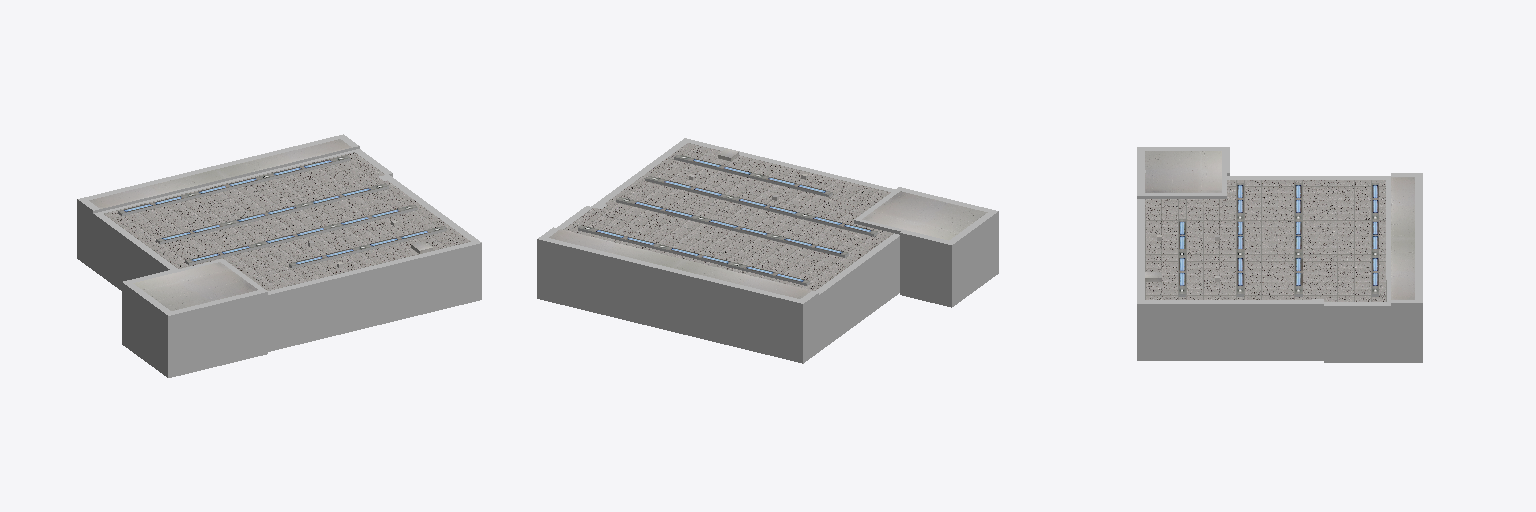
The picture shows the model from 3 angles: view 1: azimuth 30°, elevation 25°; view 2: azimuth 150°, elevation 25°; view 3: azimuth 270°, elevation 25°; orthographic projection.
Visible parts, largest first — view 1: extrior_walls, ceiling, wall9, wall3, lamps; view 2: extrior_walls, ceiling, wall9, lamps, wall3; view 3: ceiling, extrior_walls, wall9, lamps, wall3.
Boxes of the visible parts, <box> form: extrior_walls: <box>77,134,481,377</box>; ceiling: <box>104,152,470,290</box>; wall9: <box>89,139,432,310</box>; wall3: <box>101,148,446,268</box>; lamps: <box>119,155,446,265</box>; extrior_walls: <box>537,138,998,363</box>; ceiling: <box>563,143,893,290</box>; wall9: <box>549,149,987,298</box>; lamps: <box>578,155,877,283</box>; wall3: <box>578,157,877,285</box>; ceiling: <box>1145,180,1386,301</box>; extrior_walls: <box>1137,147,1422,362</box>; wall9: <box>1145,151,1414,299</box>; lamps: <box>1179,183,1378,293</box>; wall3: <box>1179,180,1390,301</box>.
Size of the model in its own units: 13.56 by 2.54 by 10.57.
Materials: 12 (4 with a texture image).